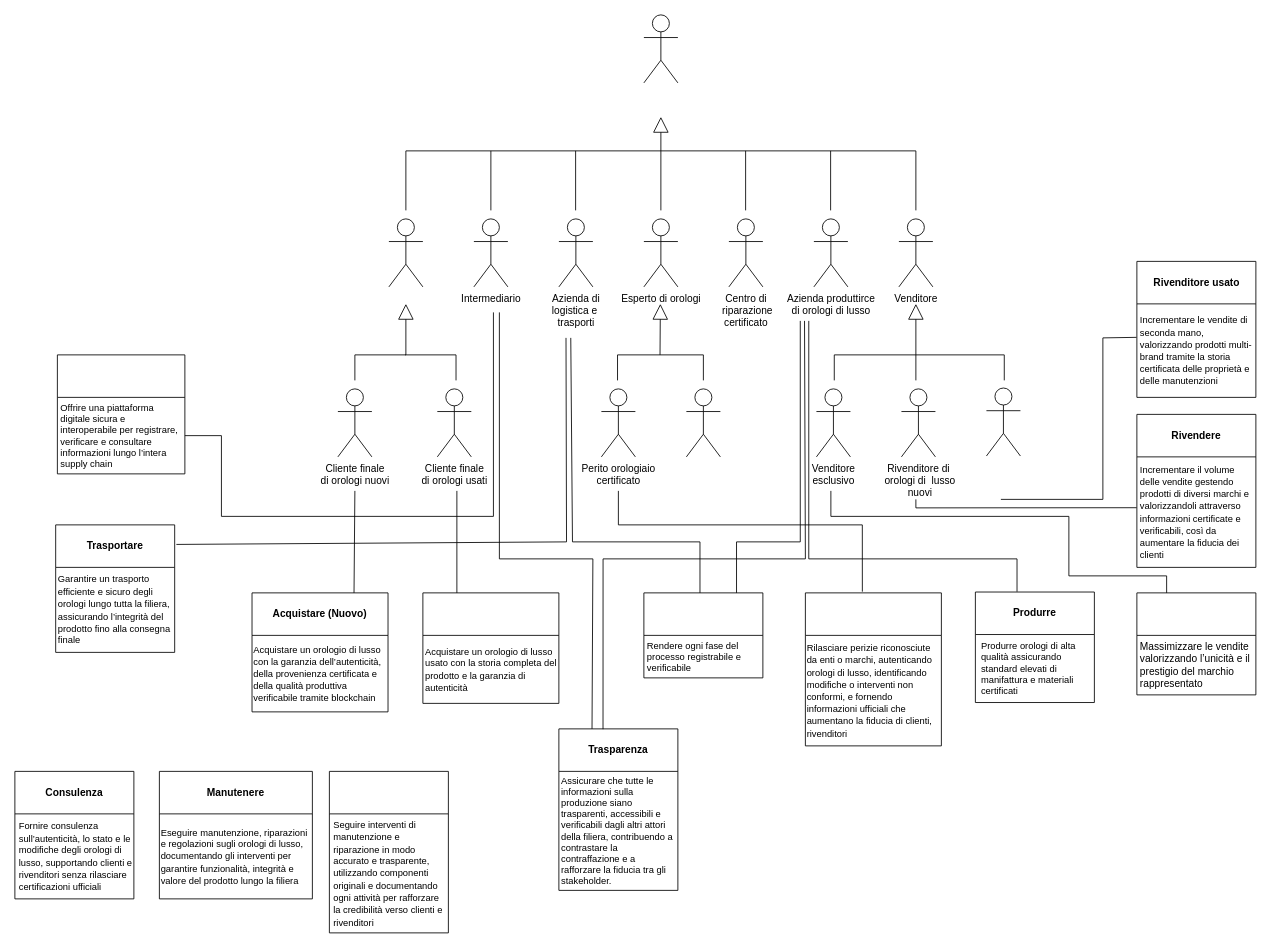
The diagram is 1271 pixels wide and 948 high, and some of its shapes have lost their labels. The shapes that lost their labels are listed below. From the top down, each one's box as (x1, y1, x2, y2) in pixels, then its label:
(643, 14, 678, 83): Stakeholder
(388, 218, 423, 287): Cliente finale
(57, 354, 185, 474): Digitalizzazione
(686, 388, 720, 457): Orologiaio specializzato
(986, 387, 1020, 456): Rivenditore di orologi di lusso usati
(422, 592, 559, 703): Acquistare (Usato)
(643, 592, 763, 678): Tracciabilità
(1136, 592, 1256, 695): Vendere
(805, 592, 941, 746): Certificare
(329, 771, 448, 933): Riparare
